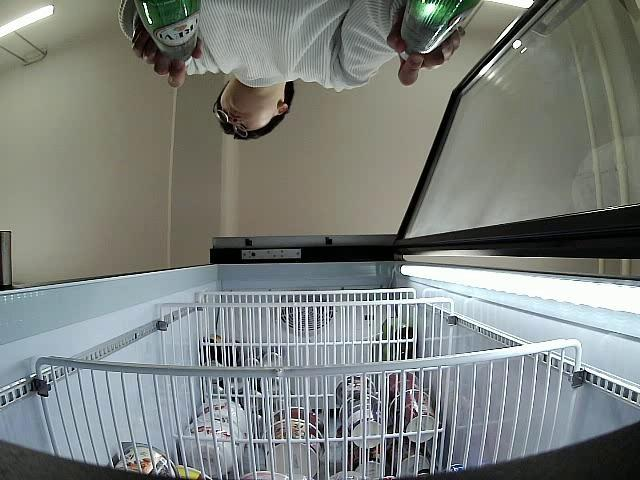18_trevi: (400, 0, 482, 59), (132, 0, 202, 61)
